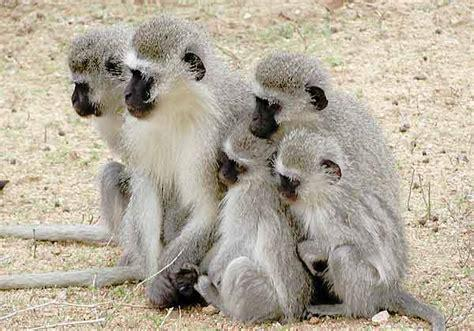monkey: (1, 22, 252, 308), (248, 52, 446, 331), (1, 26, 135, 247), (195, 122, 312, 320), (276, 131, 404, 282)
